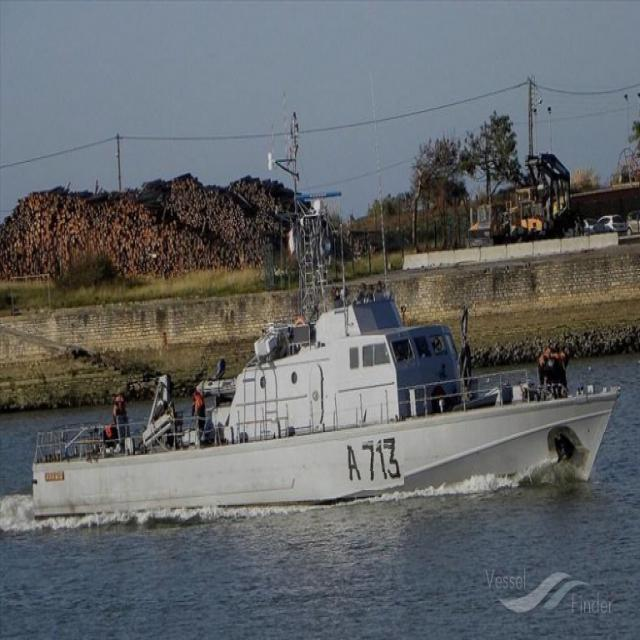OCR: (334, 438, 404, 490)
